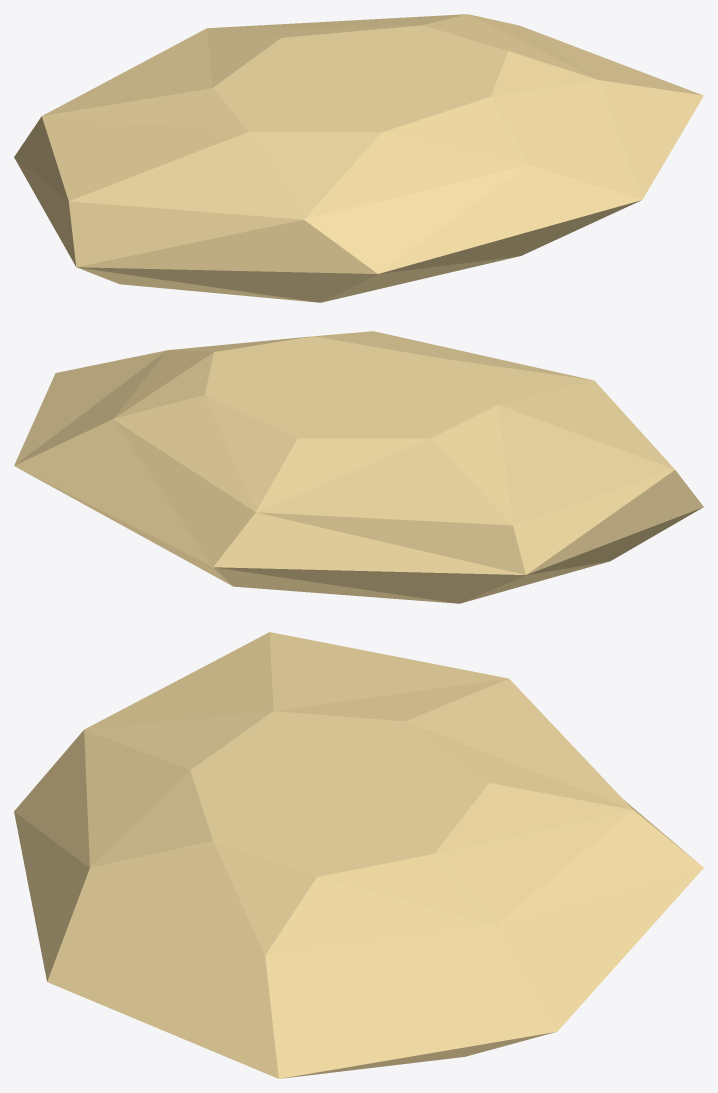
The model's file is sand_dune_a.fbx.
The picture shows the model from 3 angles, top to bottom: view 1: azimuth 30°, elevation 25°; view 2: azimuth 150°, elevation 25°; view 3: azimuth 270°, elevation 25°; orthographic projection. The views are drawn at different scales.
Visible parts, largest first — view 1: sand_dune_a; view 2: sand_dune_a; view 3: sand_dune_a.
Boxes of the visible parts, <box> form: sand_dune_a: <box>14,14,703,302</box>; sand_dune_a: <box>14,331,703,603</box>; sand_dune_a: <box>14,632,703,1078</box>.
Bounding box in the file's own units: 8 × 1.5 × 6.
